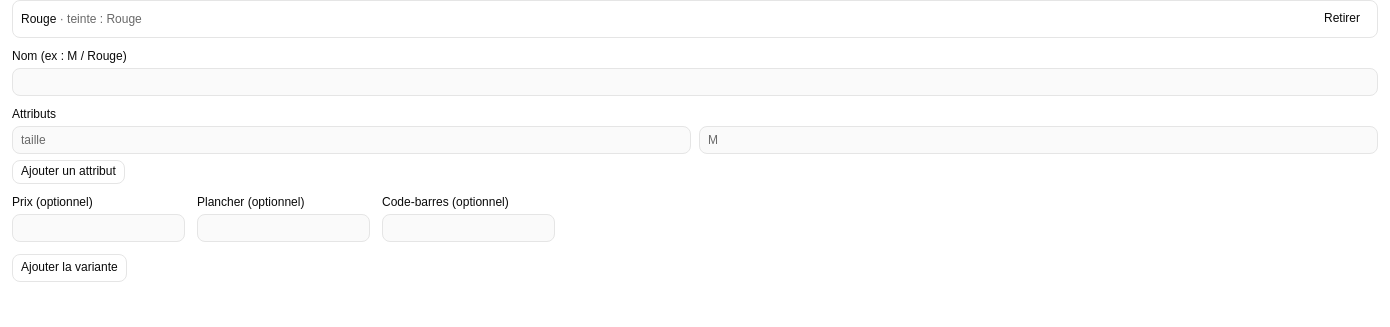
Scenario: FormulaireVariantes › refuse une variante dont les valeurs d'attributs produisent une référence déjà prise
The width and height of the screenshot is (1390, 327).
Type "Autre rouge" into the field labelled "Nom (ex : M / Rouge)" at (695, 82), box [12,68,1378,96]
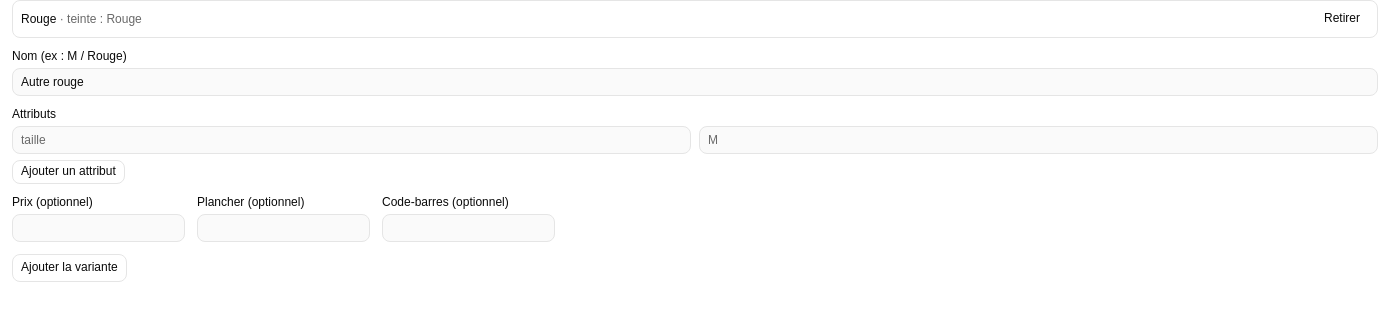
Type "couleur" into the field named "Attribut 1 — nom" at (352, 140), box [12,126,691,154]
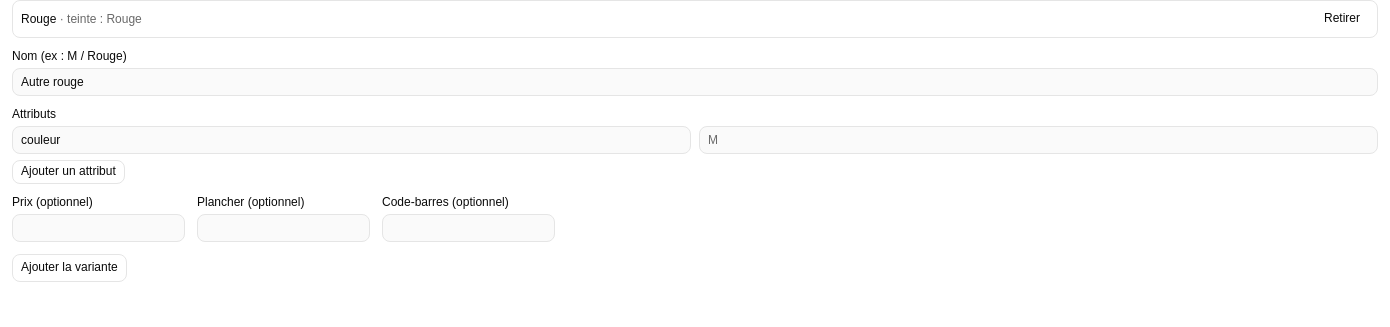
Type "Rouge" into the field named "Attribut 1 — valeur" at (1038, 140), box [699,126,1378,154]
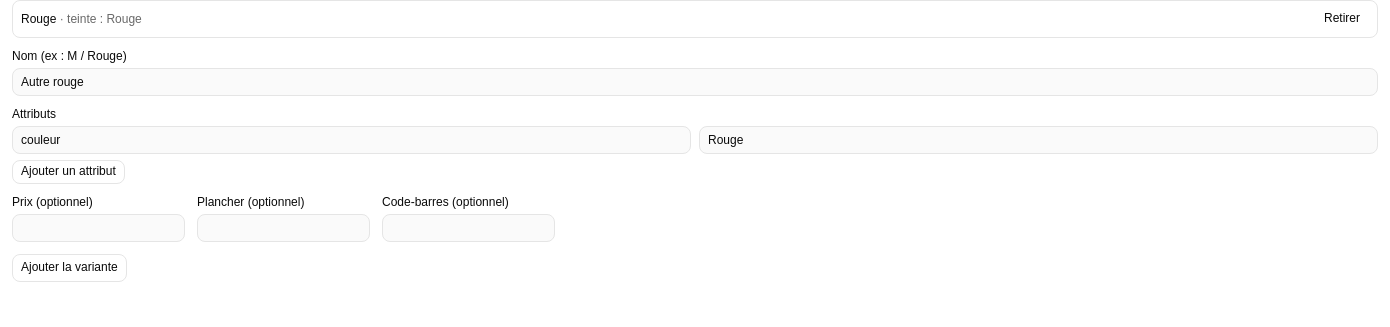
Click the button "Ajouter la variante" at (69, 268), box [12,254,127,282]
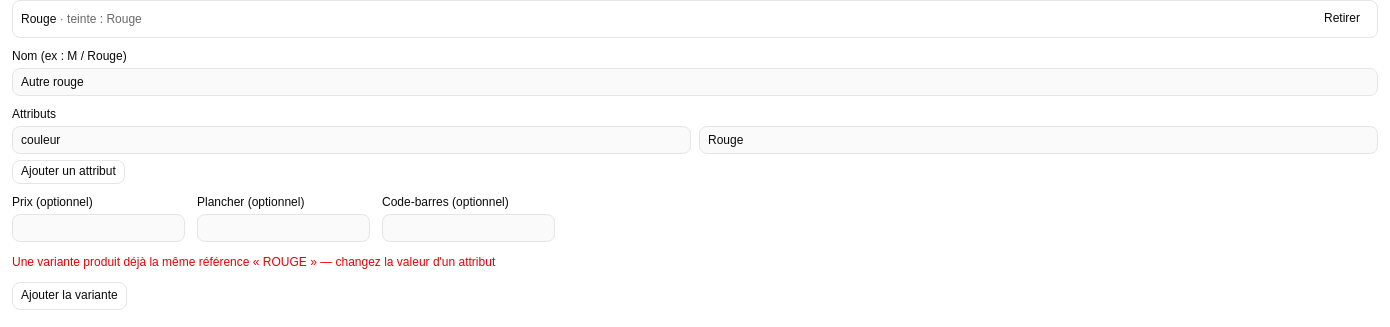
Check: the message shows "ROUGE", box [12,255,495,269]
